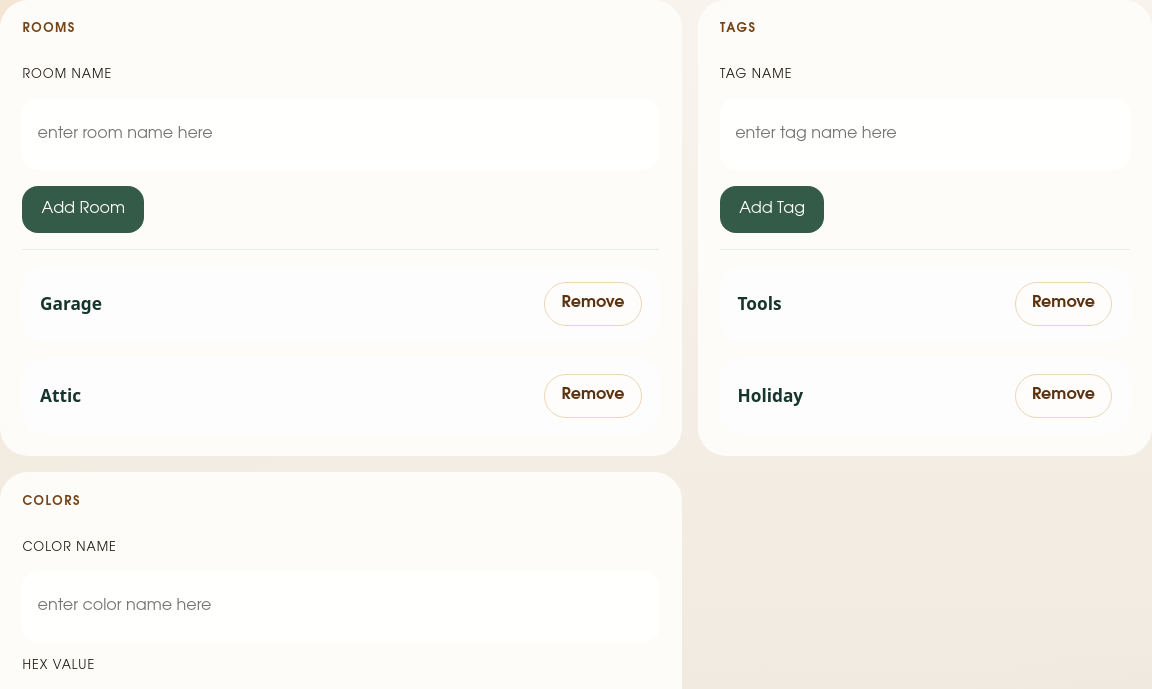
Test: rooms management route › creates a room and shows it in the list
Type "Basement" into the field with placeholder "enter room name here".
click(341, 134); type("Basement")  # box [22, 98, 659, 170]
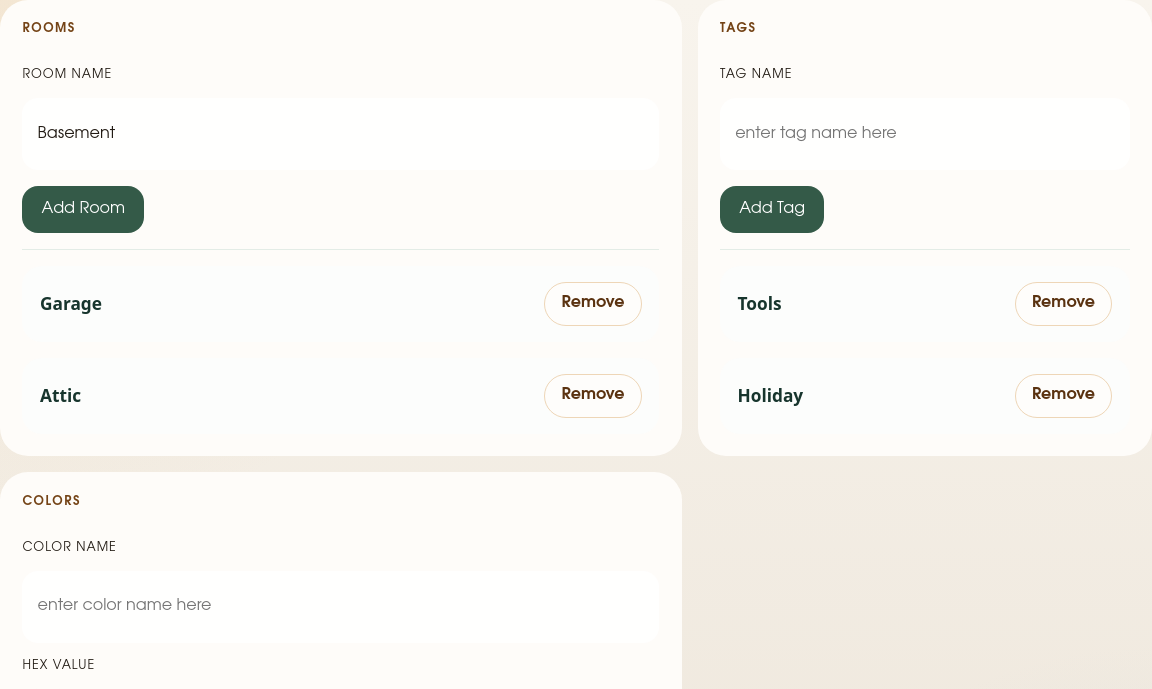
Click the button "Add Room".
click(83, 210)  # box [22, 186, 144, 233]
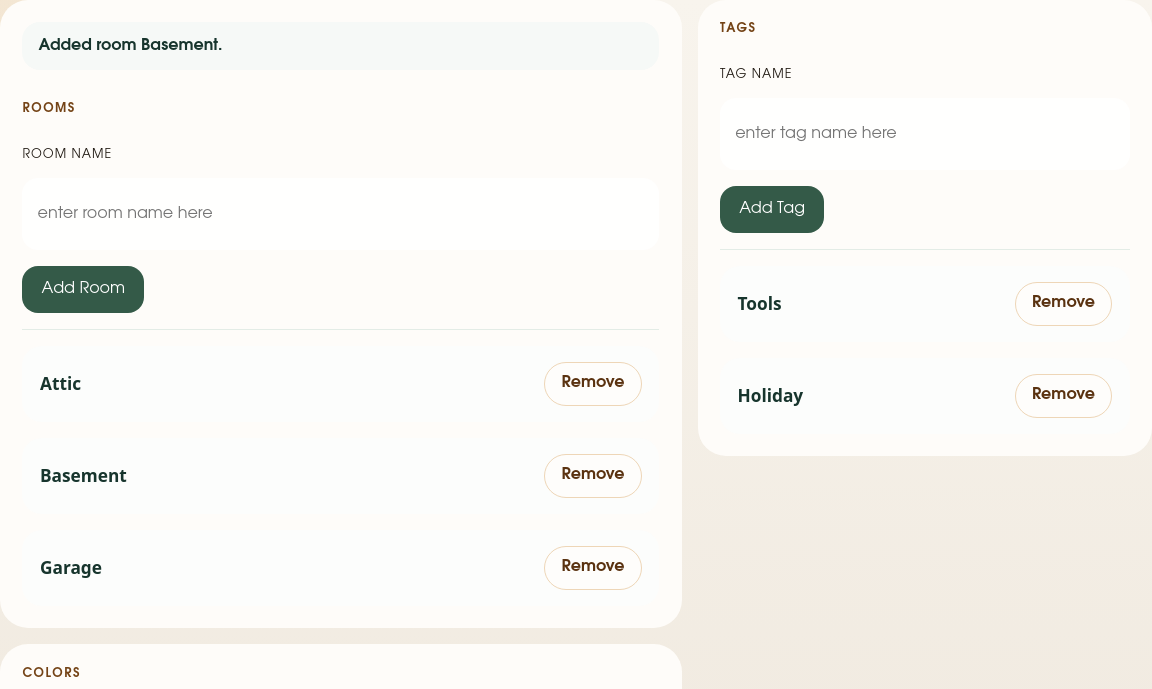
Expected: the text "Added room Basement." is shown, [22, 22, 659, 70]
Expected: the text "Basement" is shown, [40, 464, 127, 487]
